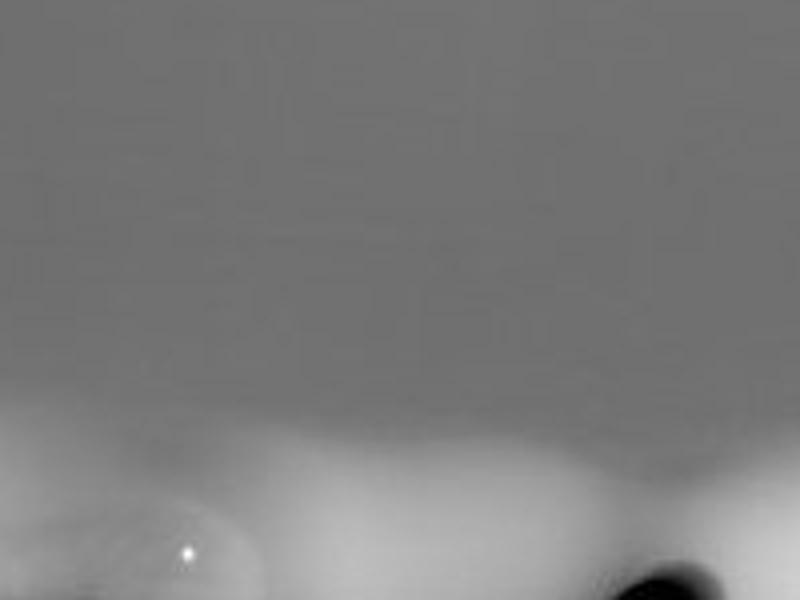defect: (613, 573, 714, 600)
